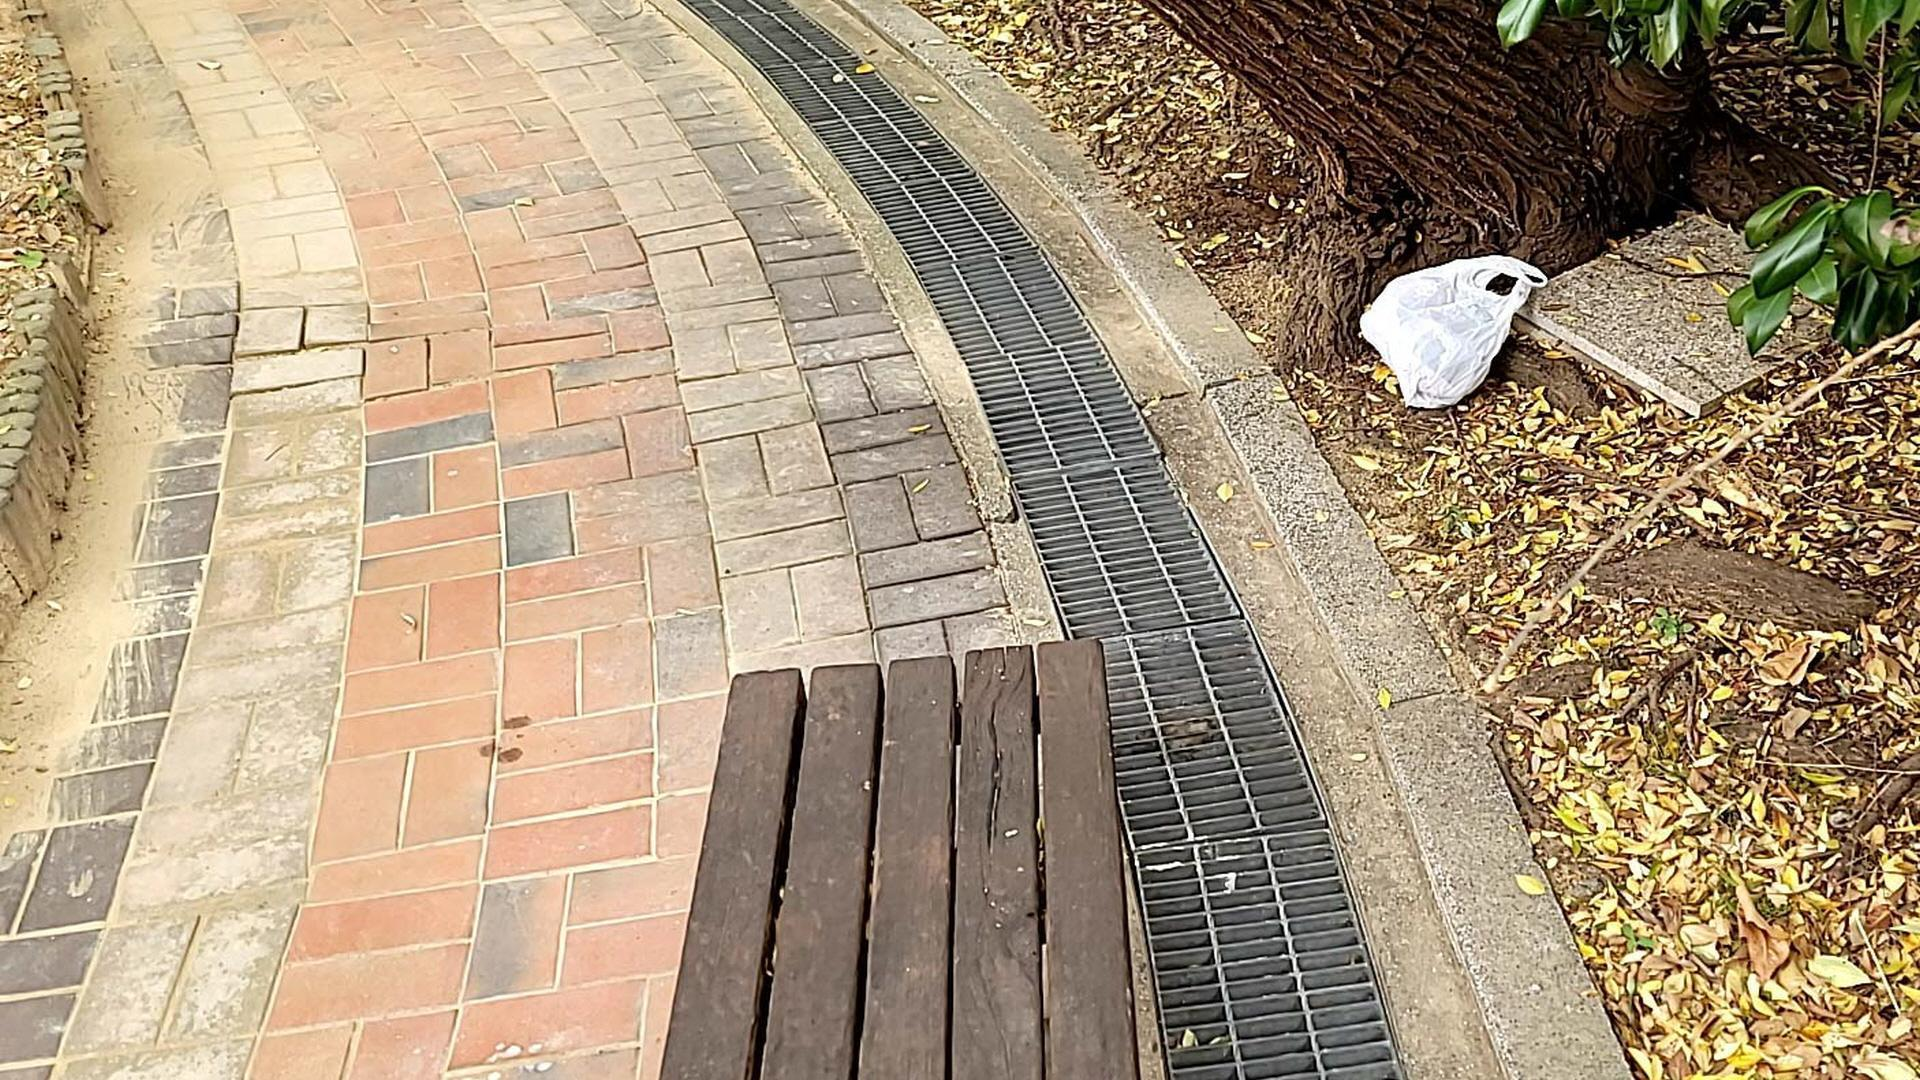white_bag: (1356, 247, 1551, 415)
